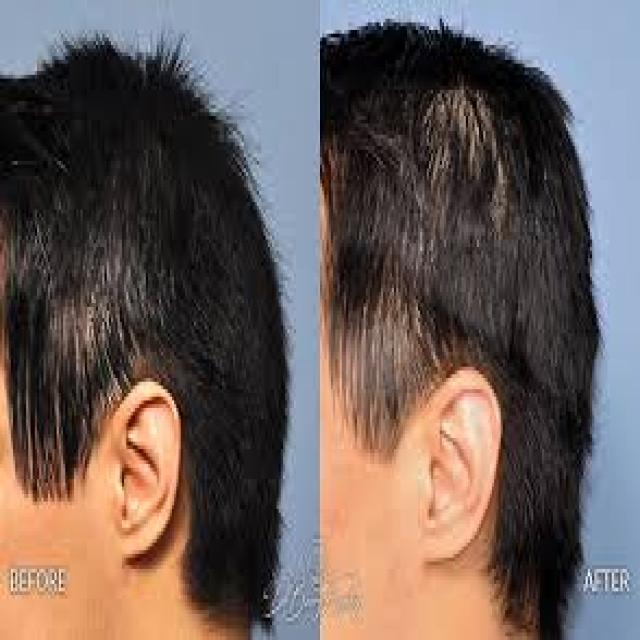Non_Helmet: (320, 10, 626, 636), (1, 36, 292, 610)
